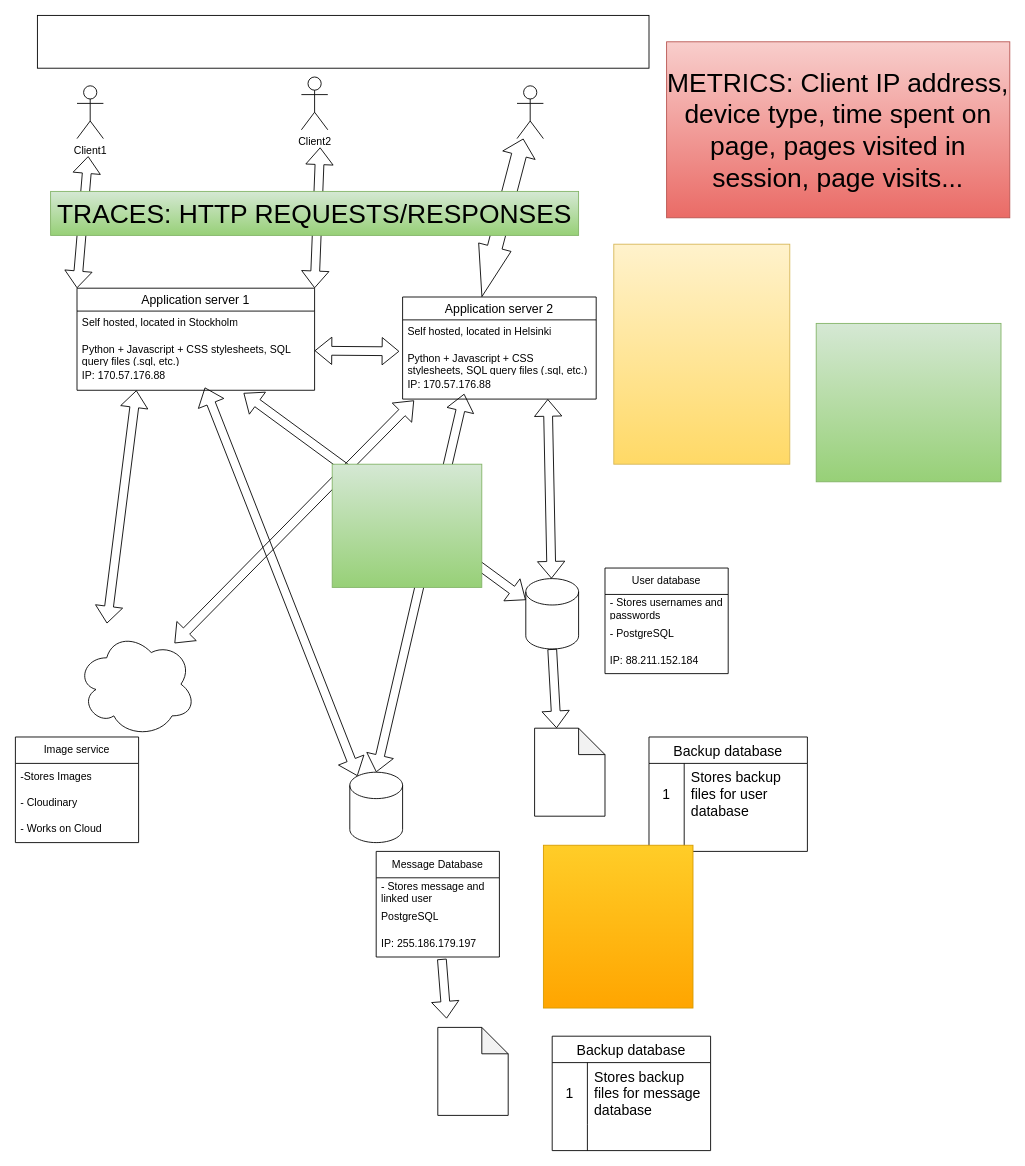
The diagram is 1025 pixels wide and 1166 high, and some of its shapes have lost their labels. The centre of each missing label's shape, as x and y in pixels:
Client3: the point at 529,112
LOGS: Database transaction logs: the point at 618,926
LOGS: PYTHON + JAVASCRIPT ( Print(), console.log() etc.): the point at 701,353
NORDIC ONLINE DISCUSSION PLATFORM: the point at 343,41
TRACES: DATABASE QUERIES: the point at 406,525
TRACES: FUNCTION CALLS (Javascript and Python functions): the point at 908,402
